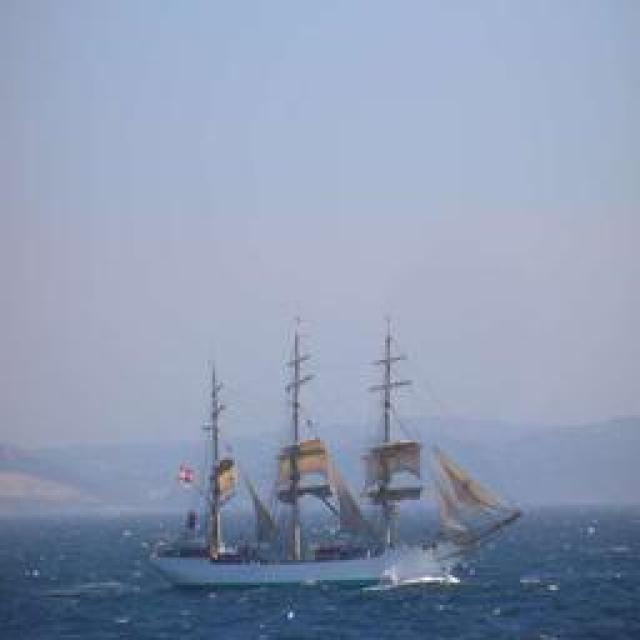CIV_Ship: (142, 320, 528, 592)
